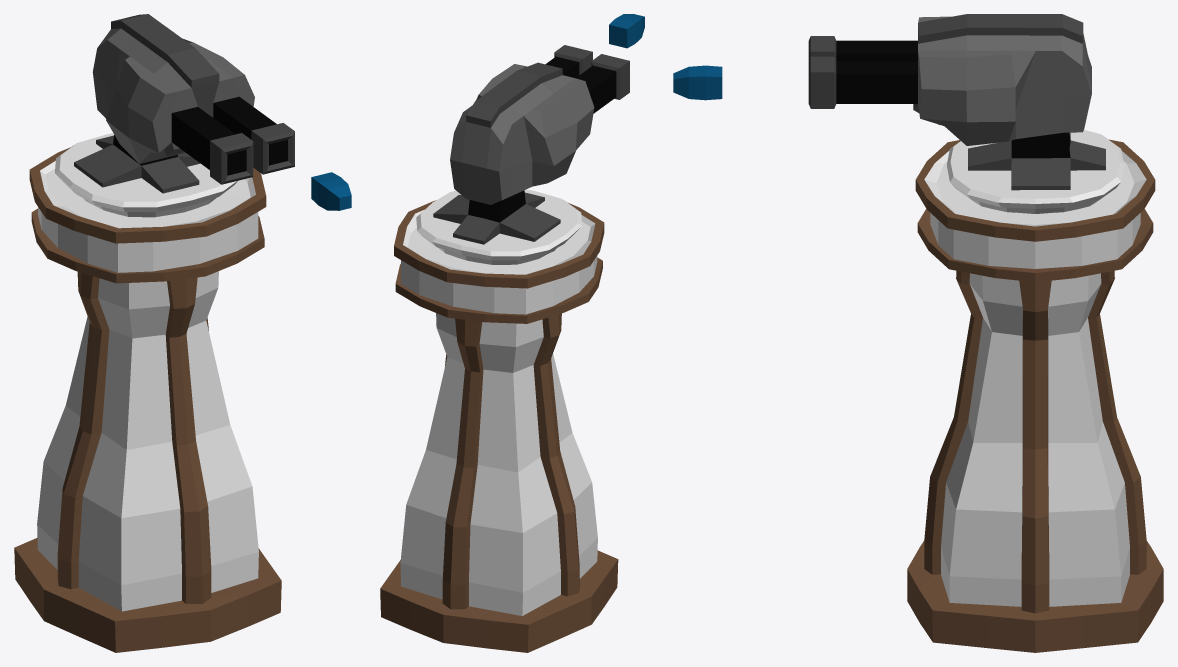
Rendered from Turret Tower.fbx.
3 views of the same model, side by side, from view 1: azimuth 30°, elevation 25°; view 2: azimuth 150°, elevation 25°; view 3: azimuth 270°, elevation 25° (orthographic). The views are drawn at different scales.
Parts seen in each view (by area): view 1: Turret Tower, Turret, Turret Base, Bullet; view 2: Turret Tower, Turret, Turret Base, Bullet; view 3: Turret Tower, Turret, Turret Base, Bullet.
Part boxes in pixels (x1=…): Turret Tower: x1=14, y1=133, x2=281, y2=652; Turret: x1=92, y1=14, x2=294, y2=184; Turret Base: x1=74, y1=135, x2=200, y2=193; Bullet: x1=311, y1=172, x2=351, y2=210; Turret Tower: x1=380, y1=189, x2=618, y2=652; Turret: x1=450, y1=45, x2=629, y2=204; Turret Base: x1=433, y1=190, x2=560, y2=244; Bullet: x1=609, y1=14, x2=644, y2=48; Turret Tower: x1=907, y1=130, x2=1163, y2=652; Turret: x1=808, y1=14, x2=1091, y2=145; Turret Base: x1=968, y1=132, x2=1105, y2=190; Bullet: x1=673, y1=65, x2=722, y2=100.
Bounding box in the file's own units: 83.86 × 219 × 168.
